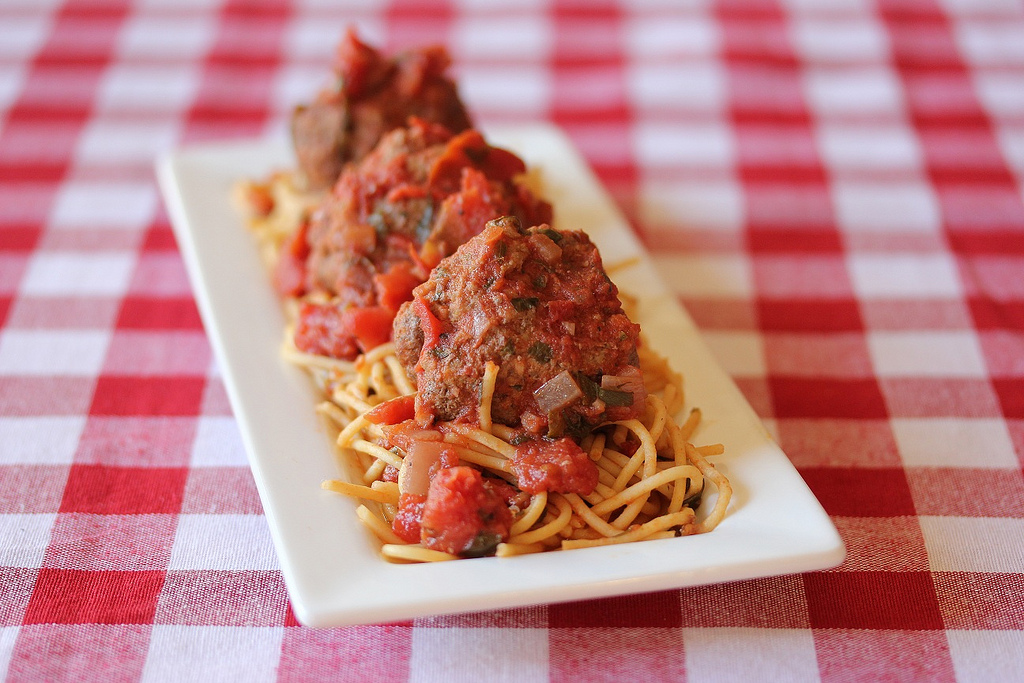meatballs: (401, 234, 632, 419), (342, 127, 567, 284), (295, 51, 477, 191)
plain spaghetti: (369, 426, 659, 535)
